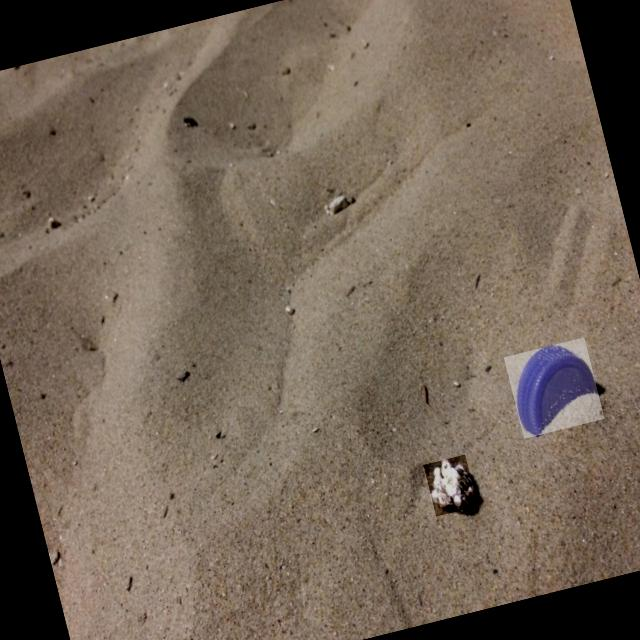Bottle cap: (517, 345, 596, 435)
Styrofoam piece: (430, 459, 473, 510)
